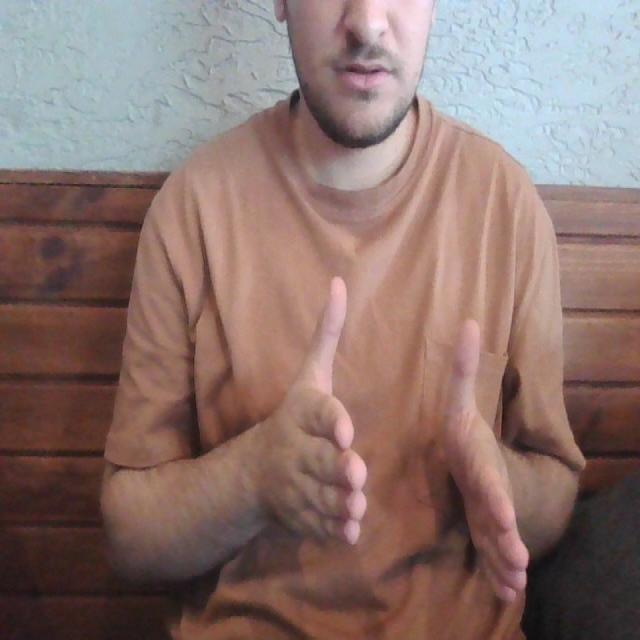Nasil: (272, 268, 534, 612)
